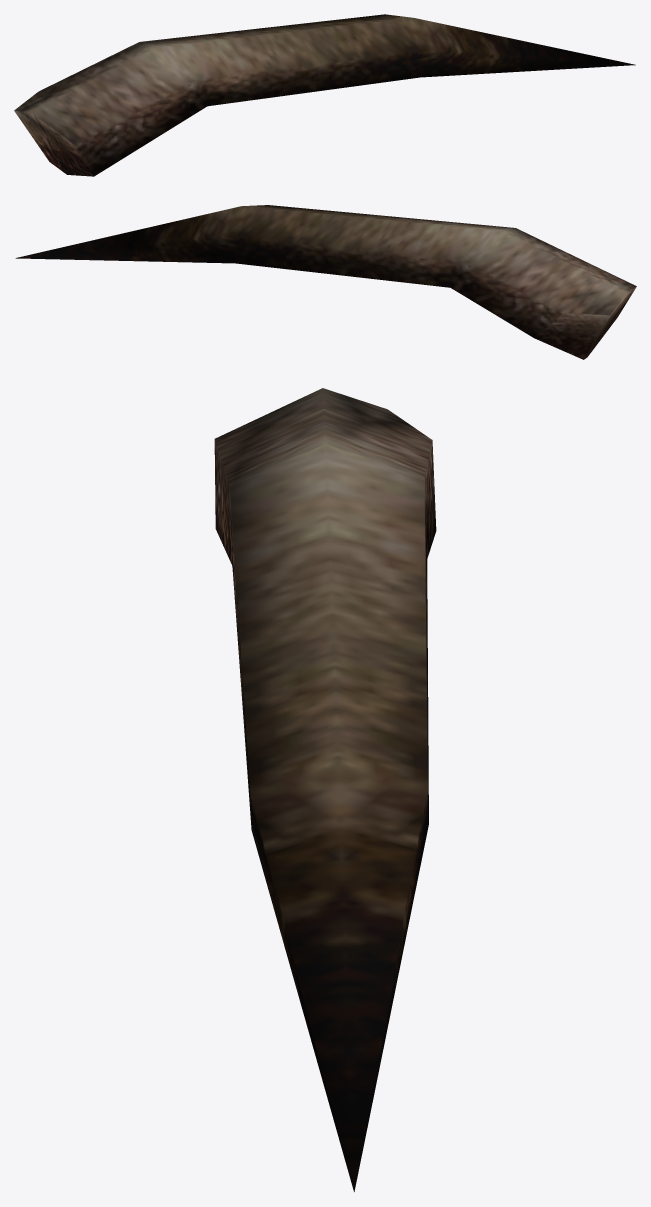
File: ob-11-03-bonetunnel02_11.fbx
The picture shows the model from 3 angles, top to bottom: view 1: azimuth 30°, elevation 25°; view 2: azimuth 150°, elevation 25°; view 3: azimuth 270°, elevation 25°; orthographic projection. The views are drawn at different scales.
Visible parts, largest first — view 1: Sphere02; view 2: Sphere02; view 3: Sphere02.
Part boxes in pixels (left/top/right/bottom): Sphere02: left=14, top=14, right=635, bottom=176; Sphere02: left=15, top=205, right=636, bottom=359; Sphere02: left=214, top=388, right=436, bottom=1191.
Size of the model in its own units: 6.39 by 1.4 by 1.01.
